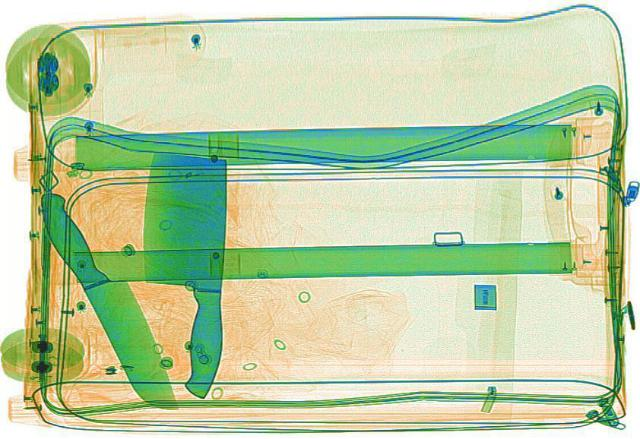Knife: (30, 184, 178, 415), (126, 147, 256, 400)
